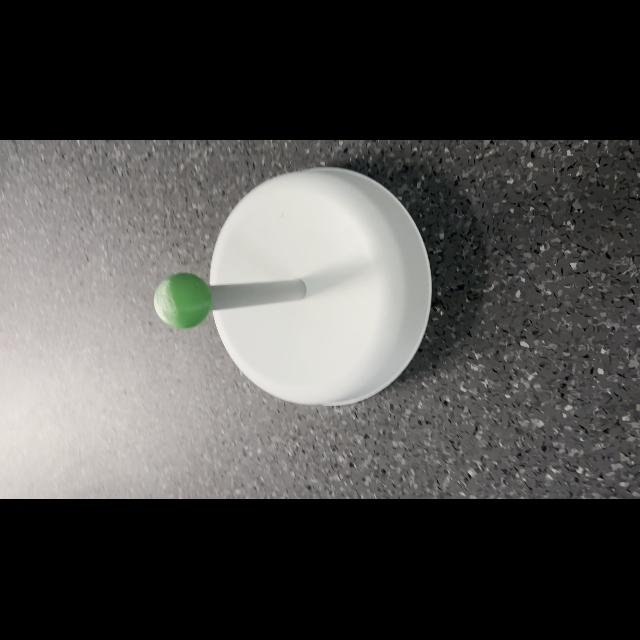objects: (149, 267, 215, 337)
